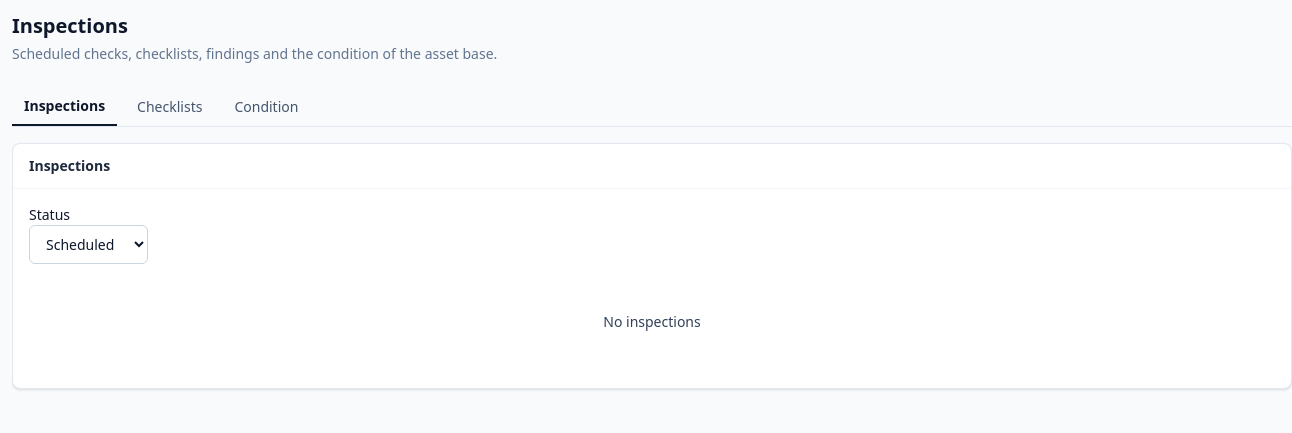
Test case: InspectionsPage › shows the condition report with overdue inspections
Click the tab "Condition": (266, 107) [222,88,310,126]
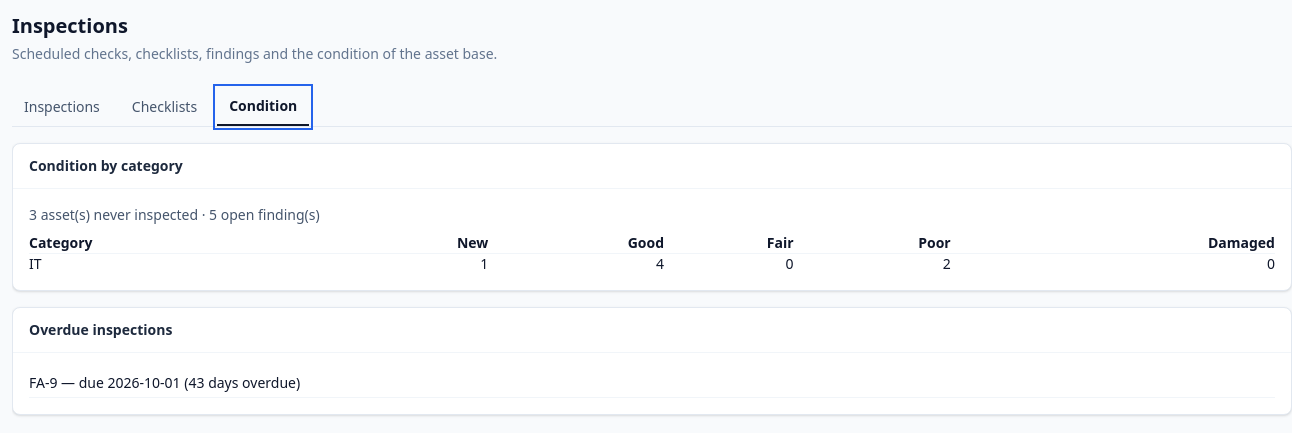
Expected: the text "3 asset(s) never inspected · 5 open finding(s)" is shown, [29,205,320,224]
Expected: the list item "FA-9 — due 2026-10-01 (43 days overdue)" is shown, [29,369,1275,398]
